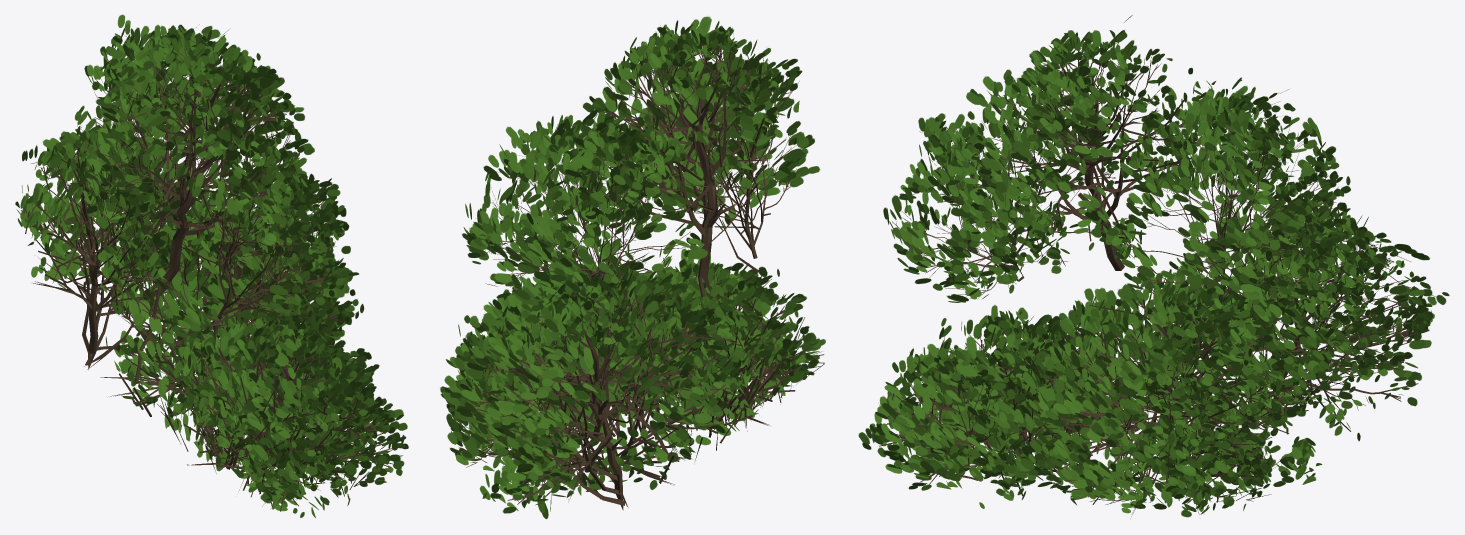
The picture shows the model from 3 angles, left to right: view 1: azimuth 30°, elevation 25°; view 2: azimuth 150°, elevation 25°; view 3: azimuth 270°, elevation 25°; orthographic projection. The views are drawn at different scales.
Visible parts, largest first — view 1: oak 01.001_trunk_Mat.001_0.206; view 2: oak 01.001_trunk_Mat.001_0.206; view 3: oak 01.001_trunk_Mat.001_0.206.
Boxes of the visible parts, box(x1,y1,x2,y2) form: oak 01.001_trunk_Mat.001_0.206: box(15, 14, 408, 517); oak 01.001_trunk_Mat.001_0.206: box(440, 16, 825, 519); oak 01.001_trunk_Mat.001_0.206: box(858, 15, 1449, 518).
Bounding box in the file's own units: 2.04 × 3.51 × 4.37.
Materials: 2 (1 with a texture image).
